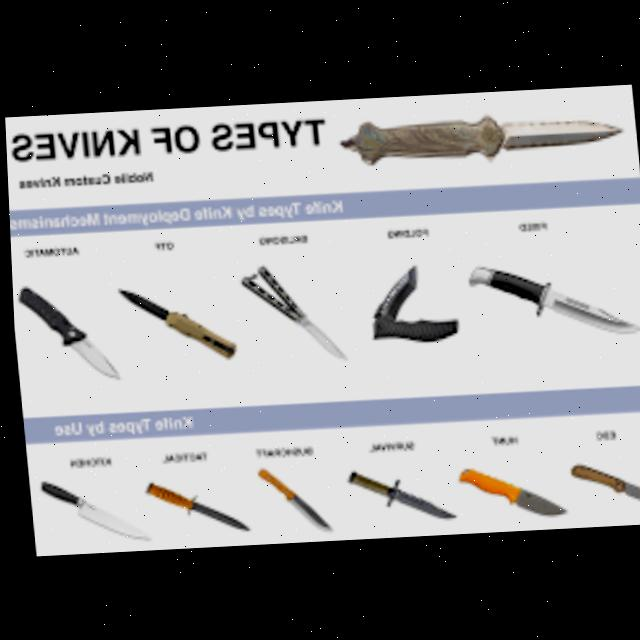knife: (337, 106, 625, 166), (464, 256, 640, 341), (238, 260, 347, 362), (15, 279, 118, 381), (118, 280, 237, 362), (364, 262, 459, 344), (36, 473, 146, 542), (344, 464, 454, 522), (453, 462, 563, 519), (142, 476, 247, 532), (253, 462, 328, 532), (566, 458, 640, 505)
